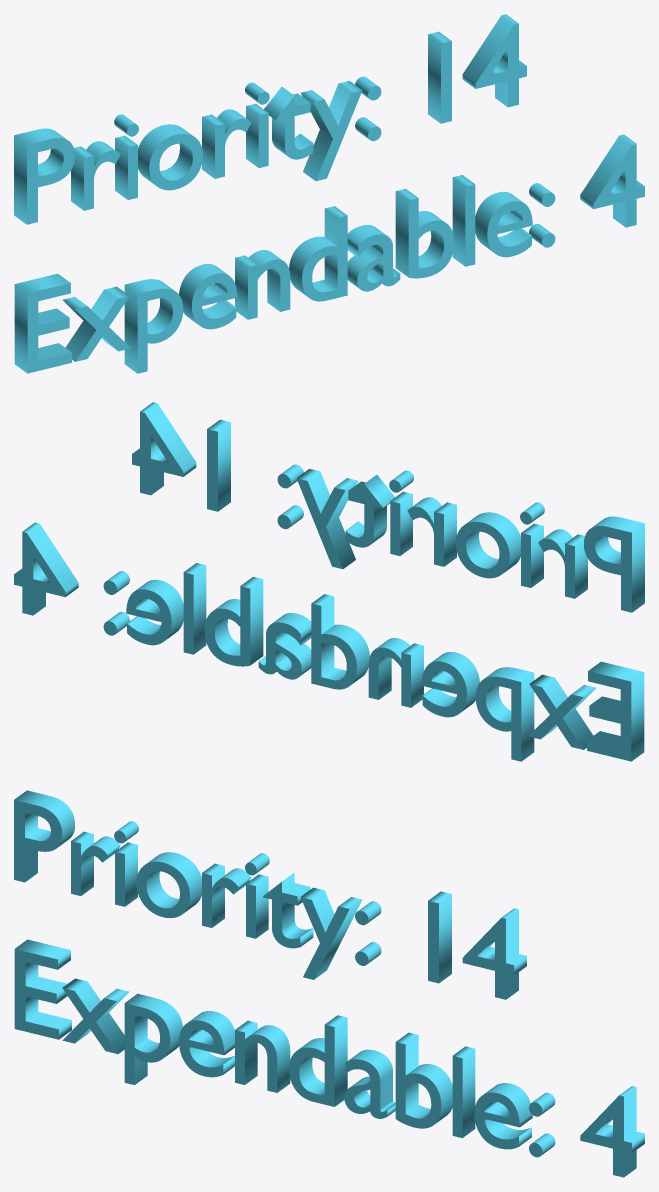
File: console_test_014_result.fbx
3 renders of one model, top to bottom at view 1: azimuth 30°, elevation 25°; view 2: azimuth 150°, elevation 25°; view 3: azimuth 330°, elevation 25°, orthographic.
Parts seen in each view (by area): view 1: Txt_Test_01.008, Txt_Test_01.006; view 2: Txt_Test_01.008, Txt_Test_01.006; view 3: Txt_Test_01.008, Txt_Test_01.006.
Part boxes in pixels (left/top/right/bottom): Txt_Test_01.008: left=14, top=134, right=644, bottom=373; Txt_Test_01.006: left=14, top=14, right=526, bottom=224; Txt_Test_01.008: left=14, top=522, right=644, bottom=761; Txt_Test_01.006: left=132, top=402, right=644, bottom=612; Txt_Test_01.008: left=14, top=939, right=644, bottom=1177; Txt_Test_01.006: left=14, top=790, right=526, bottom=999.
Bounding box in the file's own units: 0.7435 × 0.2955 × 0.027.
